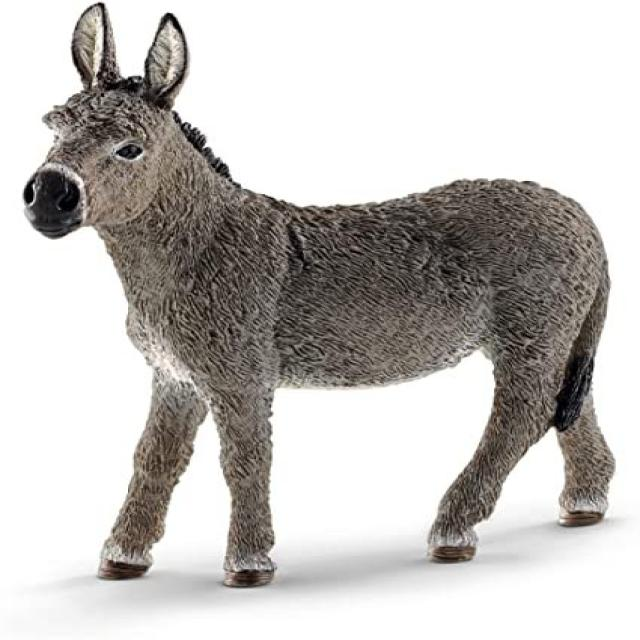Donkey: (19, 0, 640, 594)
